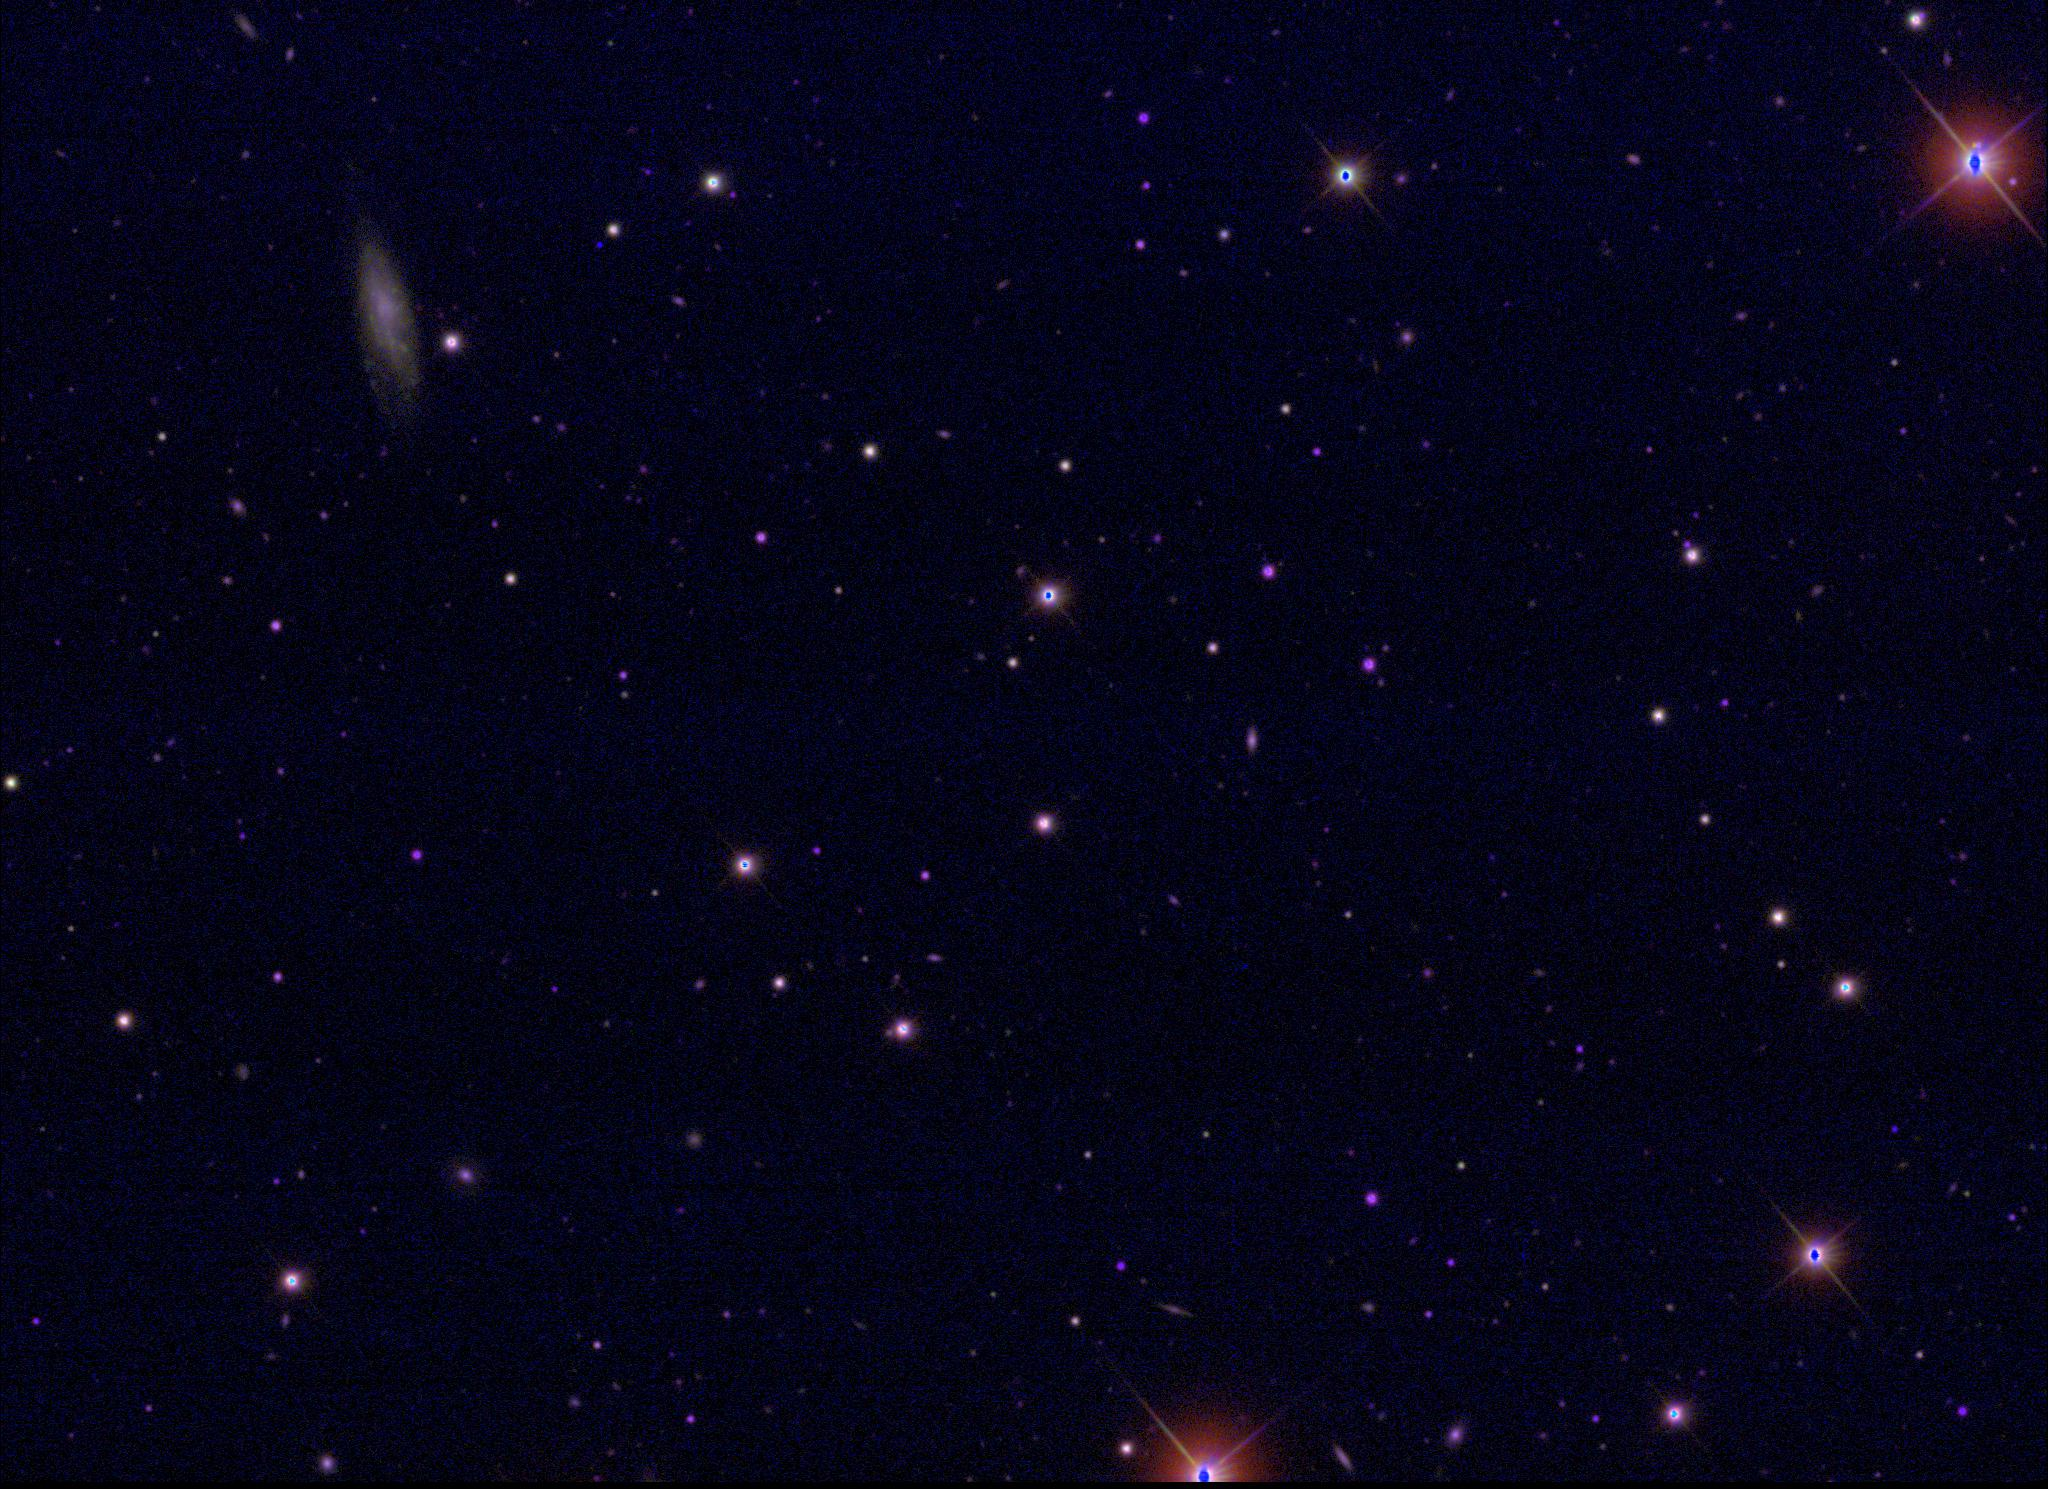L: (593, 239, 607, 251)
